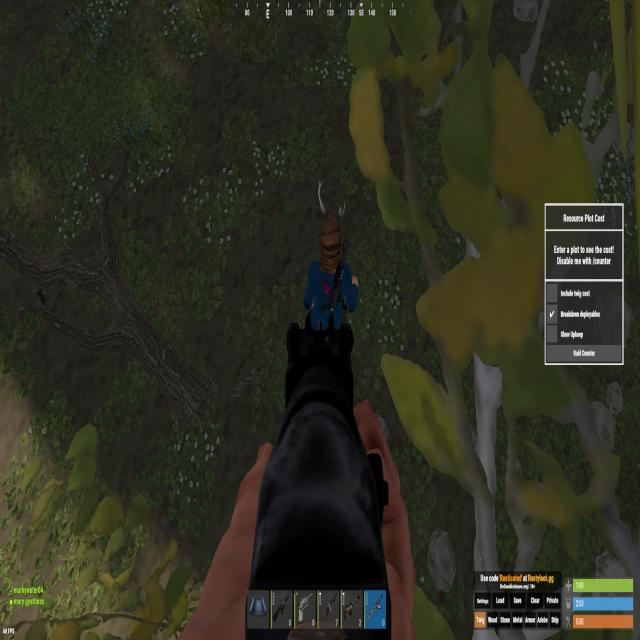Player: (303, 210, 360, 323)
